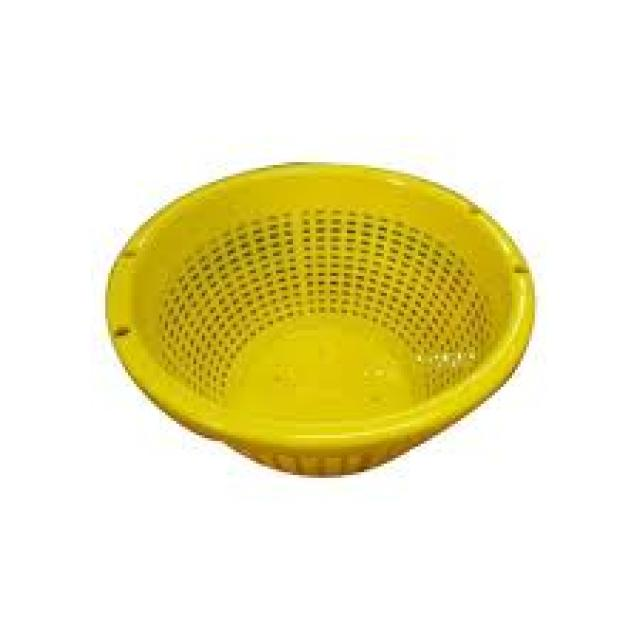basket: (71, 81, 577, 542)
